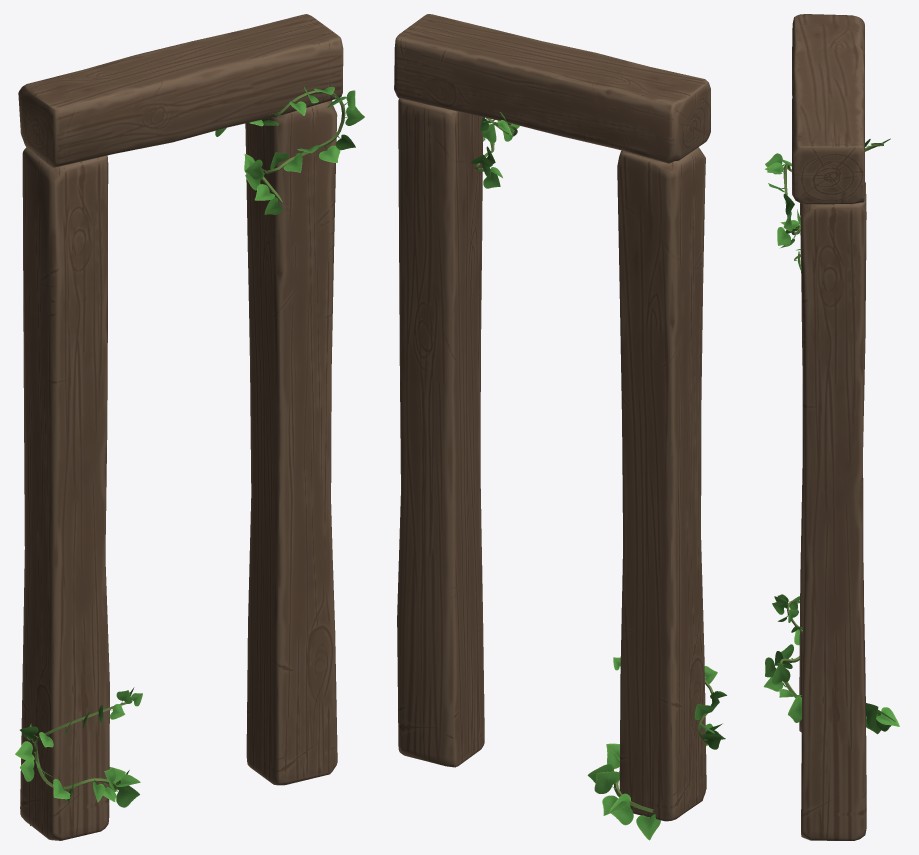
File: woodenDoor.fbx
The picture shows the model from 3 angles, left to right: view 1: azimuth 30°, elevation 25°; view 2: azimuth 150°, elevation 25°; view 3: azimuth 270°, elevation 25°; orthographic projection. The views are drawn at different scales.
Visible parts, largest first — view 1: Door; view 2: Door; view 3: Door.
Part boxes in pixels (left/top/right/bottom): Door: left=15, top=14, right=364, bottom=840; Door: left=394, top=14, right=726, bottom=840; Door: left=763, top=14, right=899, bottom=840.
Bounding box in the file's own units: 0.6976 × 1.52 × 0.2805.
